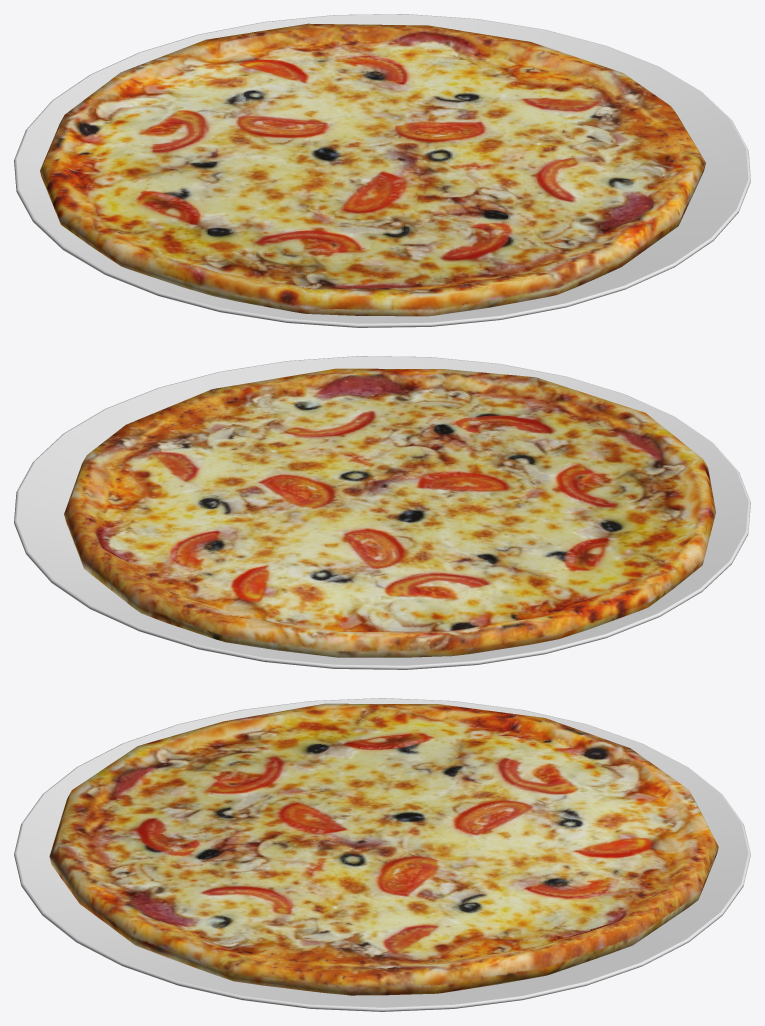
Rendered from pizza.fbx.
The picture shows the model from 3 angles, top to bottom: view 1: azimuth 30°, elevation 25°; view 2: azimuth 150°, elevation 25°; view 3: azimuth 270°, elevation 25°; orthographic projection.
Visible parts, largest first — view 1: pizza_1, asiete; view 2: pizza_1, asiete; view 3: pizza_1, asiete.
Part boxes in pixels (x1,y1,x2,y2): pizza_1: [40, 23, 705, 316]; asiete: [14, 14, 750, 327]; pizza_1: [64, 368, 715, 657]; asiete: [14, 356, 750, 669]; pizza_1: [49, 703, 718, 995]; asiete: [14, 698, 750, 1011].
Size of the model in its own units: 563 by 51.3 by 563.
1 material, 1 textured.
